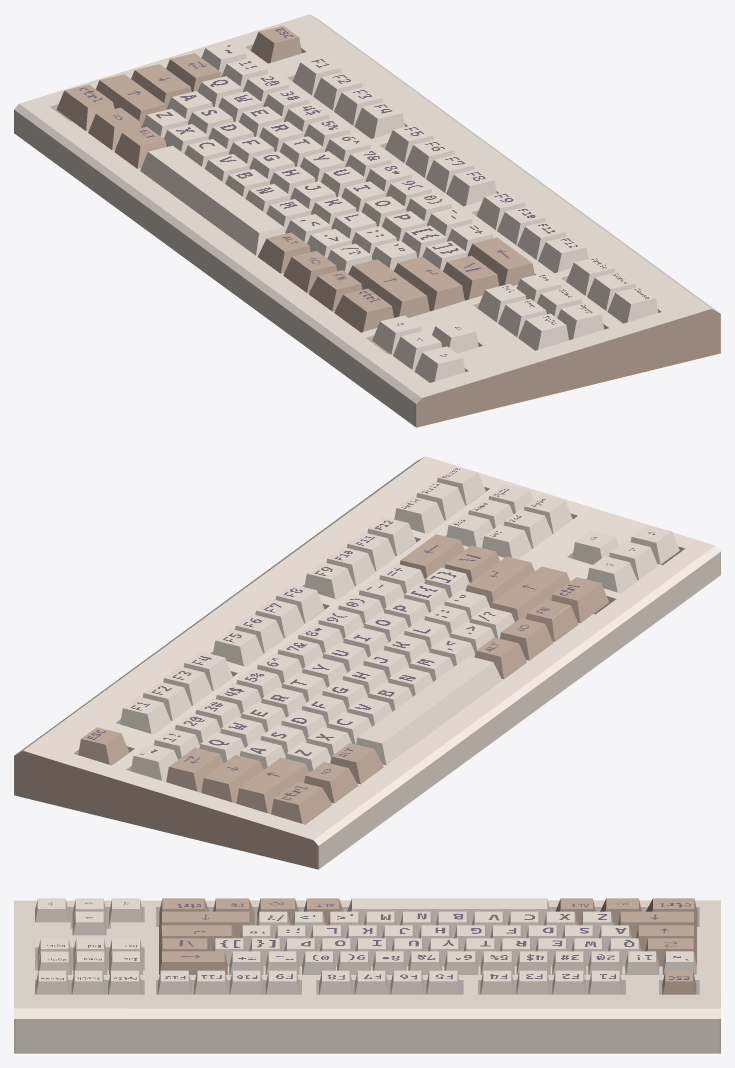
The model's file is Keyboard.fbx.
The picture shows the model from 3 angles, top to bottom: view 1: azimuth 30°, elevation 25°; view 2: azimuth 150°, elevation 25°; view 3: azimuth 270°, elevation 25°; orthographic projection. The views are drawn at different scales.
Parts seen in each view (by area): view 1: Keyboard case, Spacebar, Shift Key 2, Enter Key, Backspace, Shift Key, Control Key 2, Control Key, Back Slash Key, Escape Key, Caps Lock, Page Down (+76 smaller); view 2: Keyboard case, Spacebar, Shift Key, Shift Key 2, Control Key, Caps Lock, Enter Key, Tab, Backspace, Control Key 2, Escape Key, F1 (+76 smaller); view 3: Keyboard case, Spacebar, Shift Key 2, Backspace, Shift Key, Enter Key, Caps Lock, Tab, Escape Key, F1, F2, F3 (+76 smaller).
Part boxes in pixels (x1,y1,x2,y2): Keyboard case: (14, 14, 720, 427); Spacebar: (140, 145, 285, 255); Shift Key 2: (348, 259, 429, 317); Enter Key: (394, 256, 464, 311); Backspace: (467, 237, 534, 286); Shift Key: (96, 74, 166, 127); Control Key 2: (334, 288, 393, 332); Control Key: (56, 84, 114, 131); Back Slash Key: (443, 255, 499, 300); Escape Key: (251, 25, 301, 63); Caps Lock: (131, 64, 191, 108); Page Down: (518, 313, 568, 350); Keyboard case: (14, 456, 720, 869); Spacebar: (356, 656, 502, 765); Shift Key: (236, 757, 308, 813); Shift Key 2: (491, 566, 570, 621); Control Key: (271, 781, 332, 824); Caps Lock: (201, 755, 263, 803); Enter Key: (466, 556, 534, 607); Tab: (166, 748, 223, 792); Backspace: (399, 534, 464, 579); Control Key 2: (551, 577, 608, 623); Escape Key: (78, 727, 129, 765); F1: (120, 696, 170, 734); Keyboard case: (14, 900, 720, 1053); Spacebar: (347, 898, 550, 925); Shift Key 2: (159, 911, 254, 938); Backspace: (159, 951, 227, 974); Shift Key: (618, 911, 696, 938); Enter Key: (159, 925, 235, 951); Caps Lock: (636, 925, 696, 951); Tab: (645, 938, 696, 966); Escape Key: (662, 970, 696, 994); F1: (588, 970, 622, 994); F2: (552, 970, 586, 994); F3: (516, 970, 550, 994).
Bounding box in the file's own units: 1000 × 180 × 2288.
